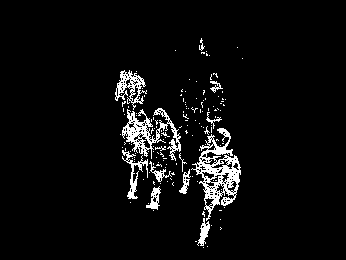person: (196, 128, 241, 246), (145, 107, 190, 209), (124, 114, 148, 199), (116, 69, 145, 121), (206, 73, 228, 127)
